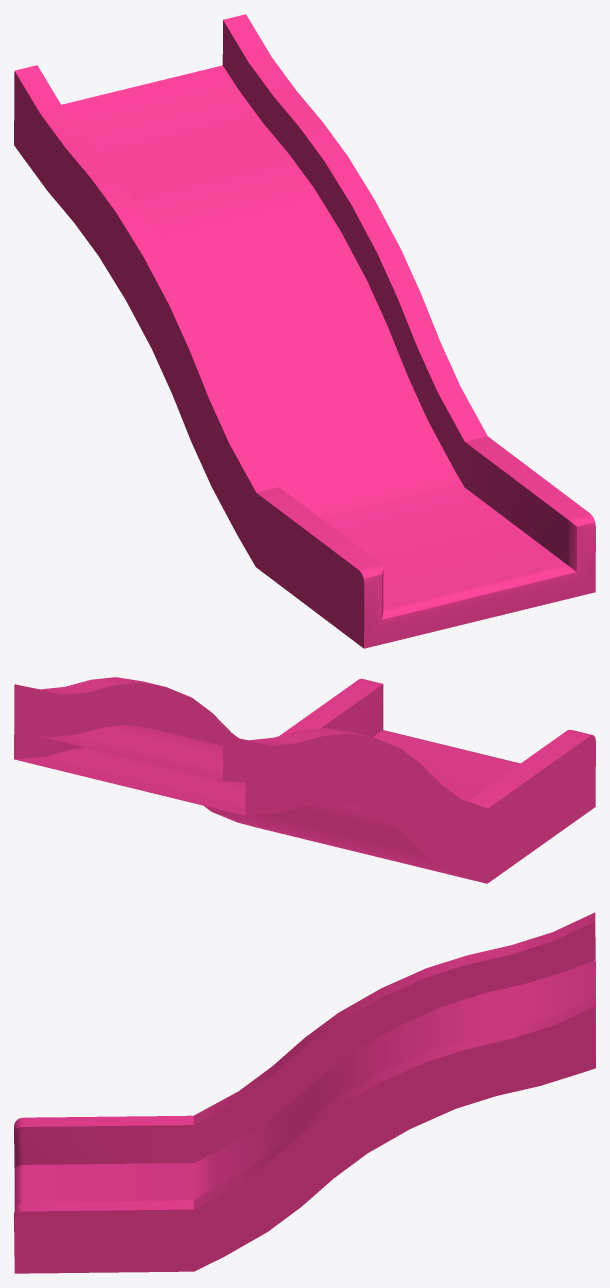
Rendered from Slide3_Start.fbx.
The picture shows the model from 3 angles, top to bottom: view 1: azimuth 30°, elevation 25°; view 2: azimuth 150°, elevation 25°; view 3: azimuth 270°, elevation 25°; orthographic projection. The views are drawn at different scales.
Visible parts, largest first — view 1: Slide3_Start; view 2: Slide3_Start; view 3: Slide3_Start.
Boxes of the visible parts, bbox=[...] form: Slide3_Start: bbox=[14, 14, 595, 648]; Slide3_Start: bbox=[14, 677, 595, 883]; Slide3_Start: bbox=[14, 912, 595, 1273].
Bounding box in the file's own units: 2.44 × 3.24 × 6.39.
